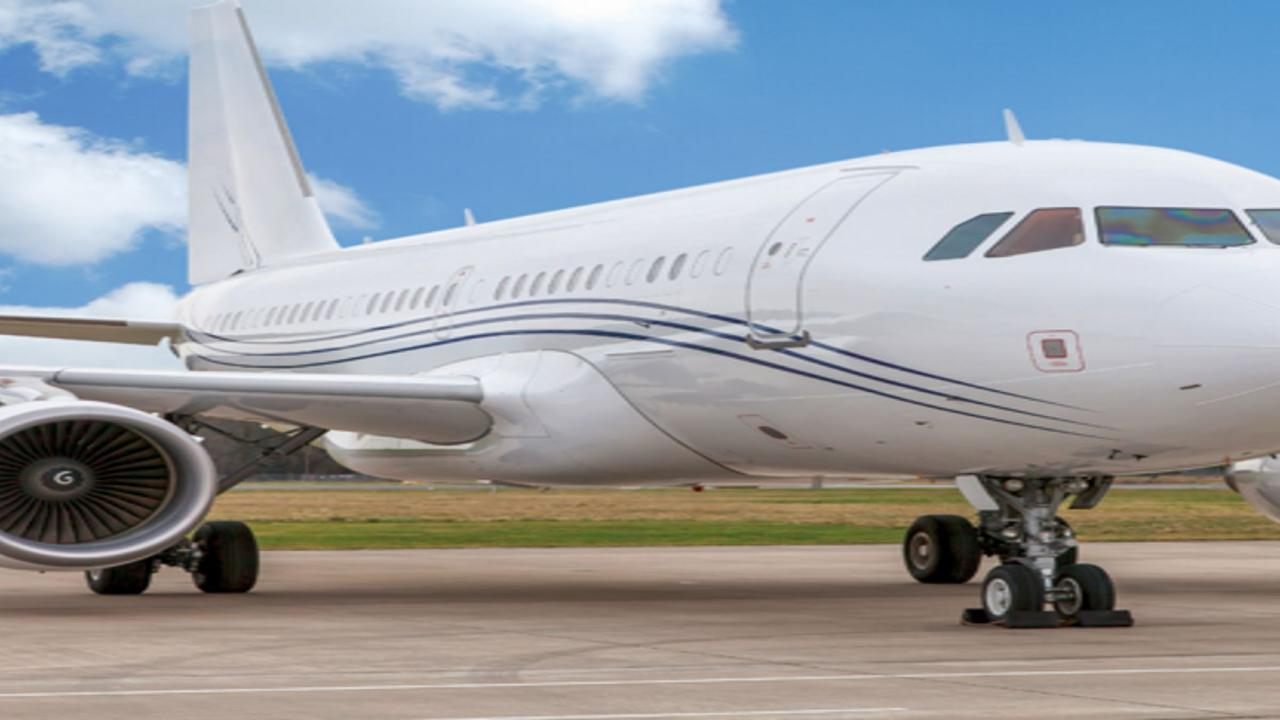Airplane: (0, 4, 1280, 650)
